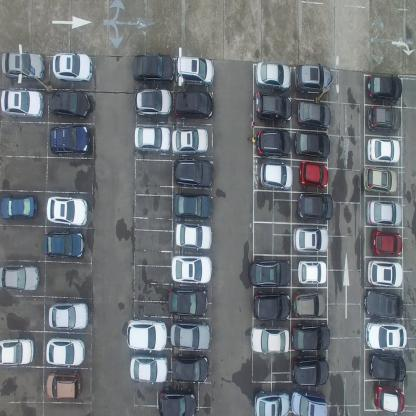car: (127, 316, 168, 352), (46, 194, 89, 228), (0, 261, 41, 294), (51, 51, 93, 83), (1, 88, 43, 120), (48, 88, 91, 119), (1, 51, 45, 81), (172, 158, 214, 189), (255, 91, 293, 125), (249, 258, 292, 288), (132, 53, 175, 83), (252, 290, 291, 323), (175, 54, 214, 87), (44, 229, 85, 260), (48, 300, 90, 330), (171, 253, 212, 283), (173, 90, 214, 120), (295, 62, 332, 95), (364, 321, 407, 349), (168, 286, 208, 316), (170, 319, 210, 349), (364, 289, 404, 319), (46, 336, 86, 366), (249, 326, 290, 355), (291, 355, 329, 386), (292, 322, 331, 352), (0, 193, 39, 223), (366, 72, 402, 104), (256, 127, 293, 158), (45, 370, 82, 401), (368, 352, 406, 382), (134, 88, 172, 118), (129, 354, 168, 383), (255, 60, 291, 91), (175, 220, 212, 250), (292, 225, 329, 255), (134, 124, 172, 153), (297, 98, 331, 130), (0, 335, 35, 366), (294, 130, 330, 160), (297, 192, 333, 222), (172, 353, 209, 382), (158, 387, 196, 415), (260, 160, 294, 191), (362, 166, 398, 195), (172, 127, 208, 156), (290, 388, 328, 415), (365, 199, 403, 226), (174, 192, 212, 219), (372, 383, 405, 414), (367, 260, 402, 288), (367, 105, 401, 133), (254, 389, 290, 415), (294, 290, 326, 319), (371, 229, 403, 257), (366, 138, 400, 164), (298, 160, 328, 189), (297, 259, 327, 286)
